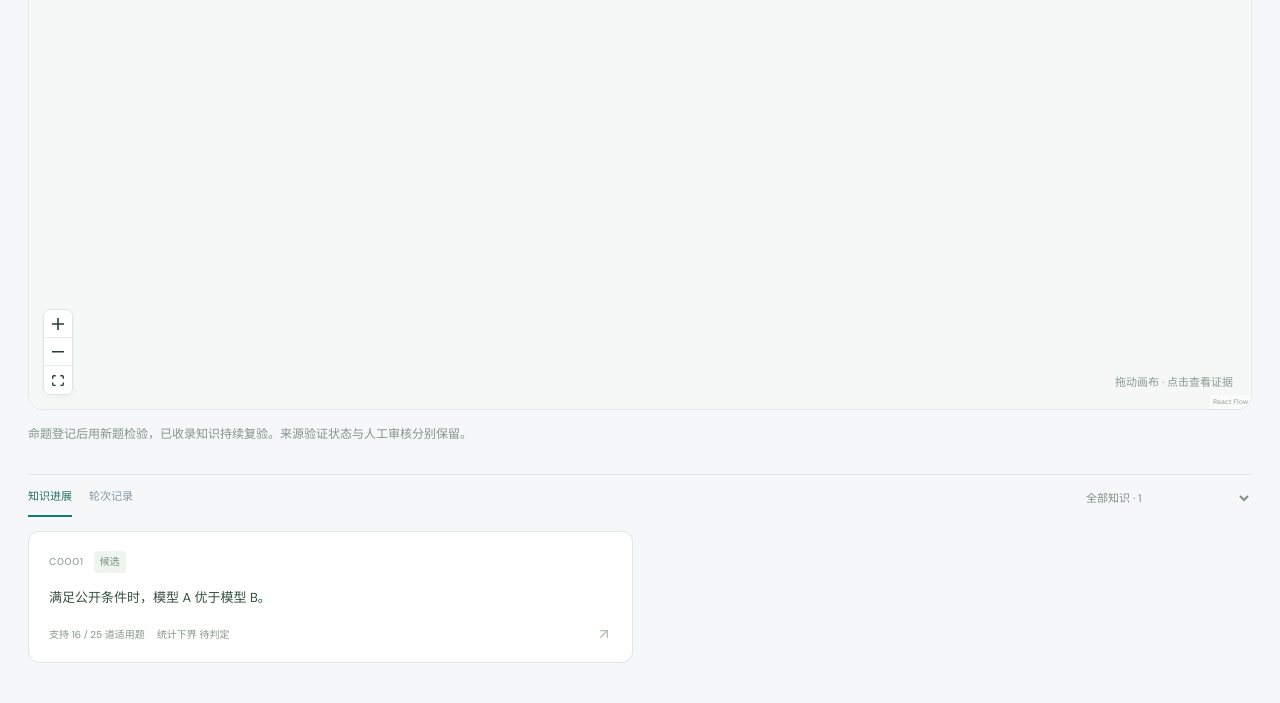
Test: shows real source evidence, leaves unknown lower bounds pending, and does not create jobs
(page scrolled)
Expected: the text "统计下界 待判定" is shown, [157, 626, 230, 643]
Step 1. Click the button with aria-label "阅读命题 C0001" → point(66, 562), box [28, 531, 633, 663]
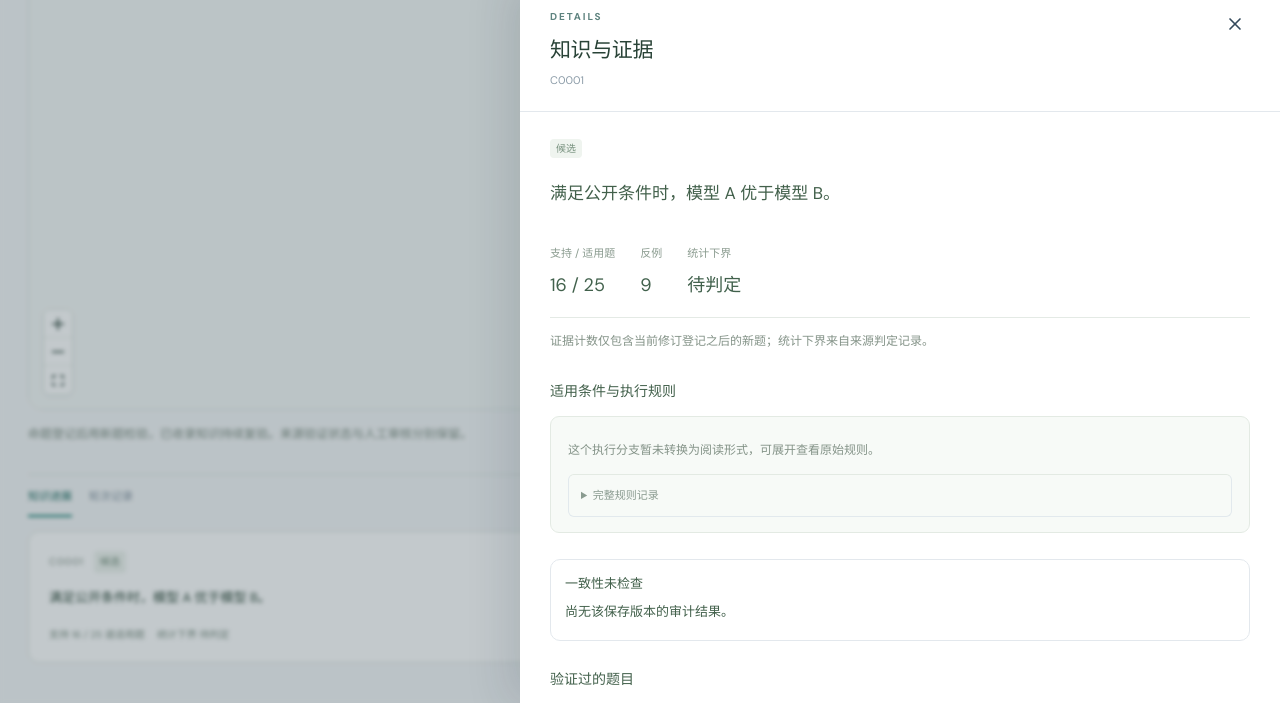
Now the text "16 / 25" is shown, box [550, 273, 605, 297]
Now the text "待判定" is shown, box [687, 269, 741, 301]
Now the text "证据计数仅包含当前修订登记之后的新题；统计下界来自来源判定记录。" is shown, box [550, 333, 934, 349]
